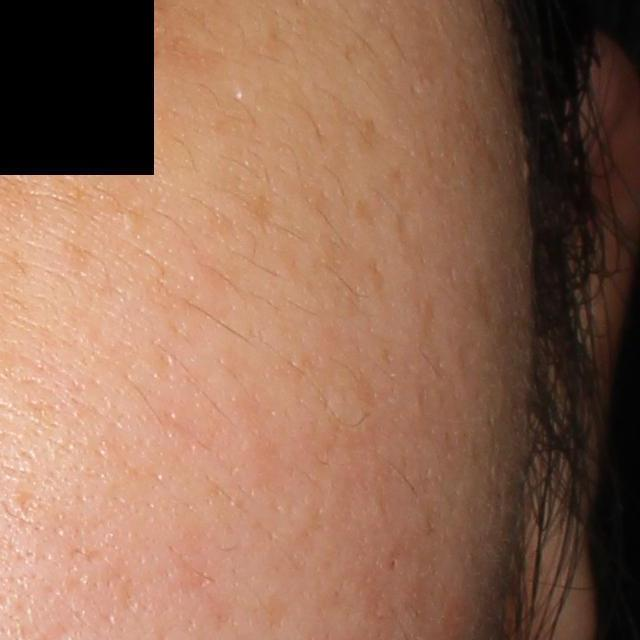melasma: (333, 94, 377, 157), (222, 184, 282, 229), (286, 177, 338, 225), (352, 195, 376, 229)
